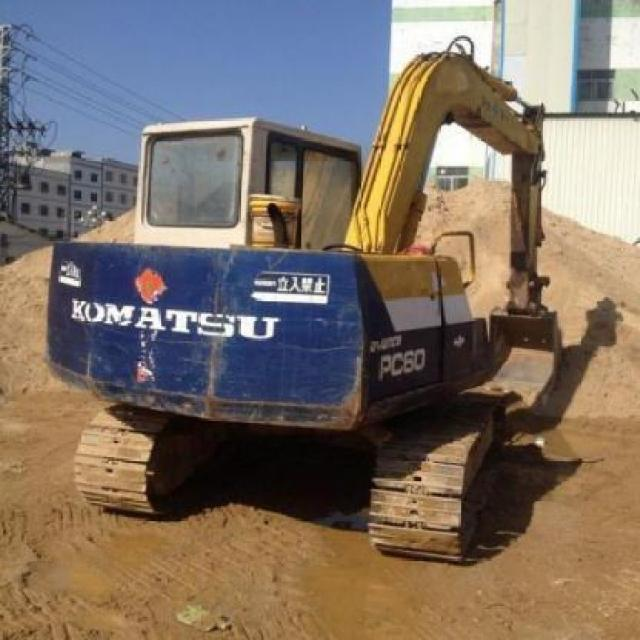Excavator: (45, 40, 562, 565)
